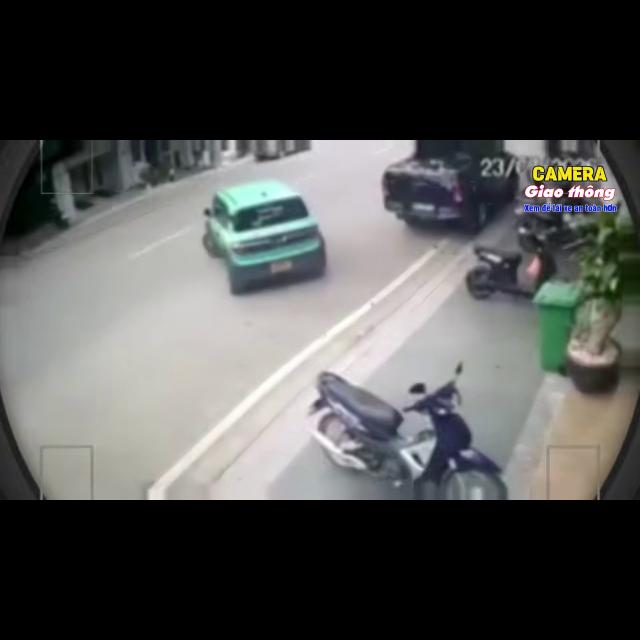car: (203, 180, 326, 293), (382, 140, 519, 233)
motorcycle: (310, 363, 506, 499), (465, 229, 556, 299), (514, 198, 588, 252)
